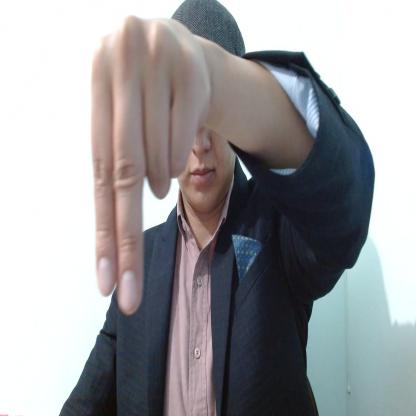N: (90, 19, 212, 316)
